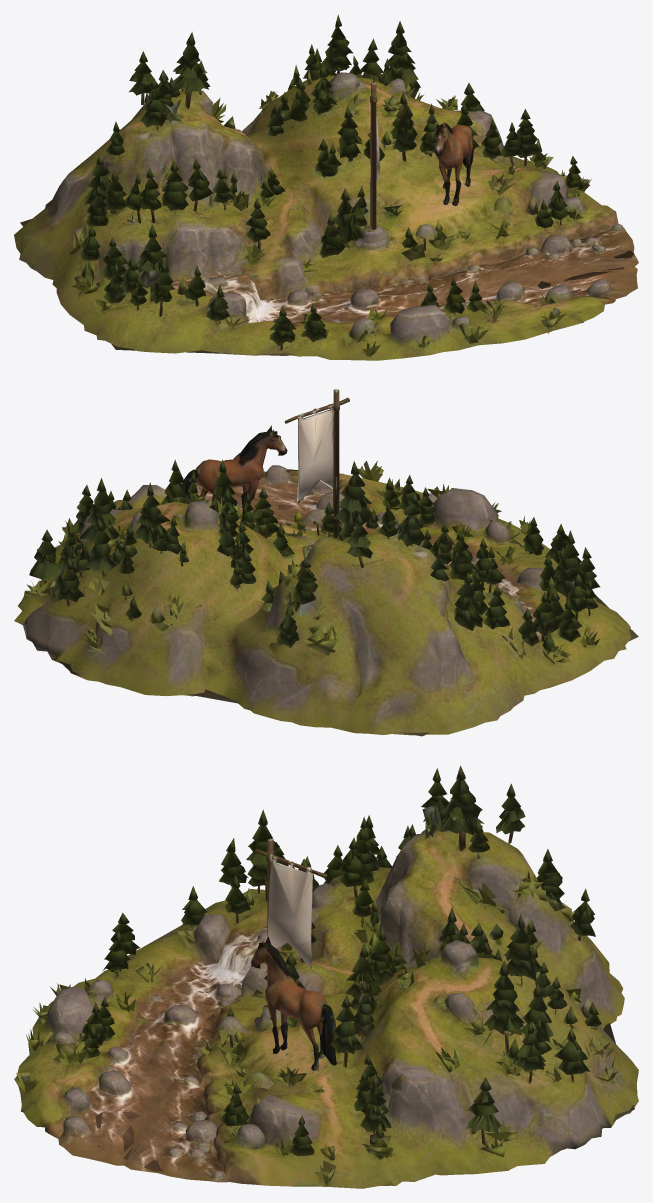
The model's file is flag.glb.
3 views of the same model, one above another, from view 1: azimuth 30°, elevation 25°; view 2: azimuth 150°, elevation 25°; view 3: azimuth 270°, elevation 25° (orthographic). The views are drawn at different scales.
Bounding box in the file's own units: 0.9565 × 0.3613 × 0.8584.
1 material, 1 textured.
